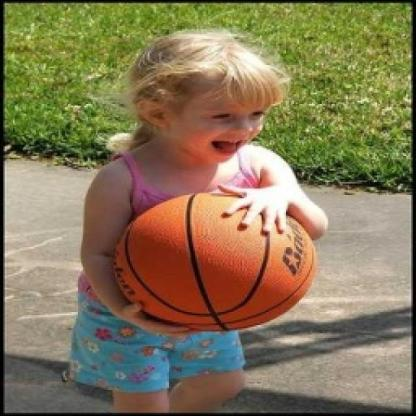basketball: (109, 190, 319, 335)
